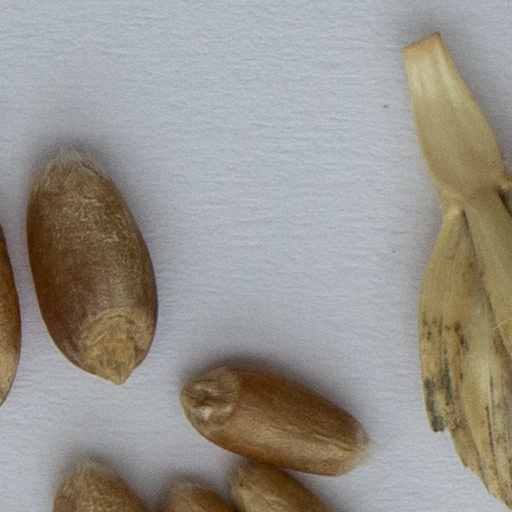Peel-poly: (408, 37, 511, 508)
